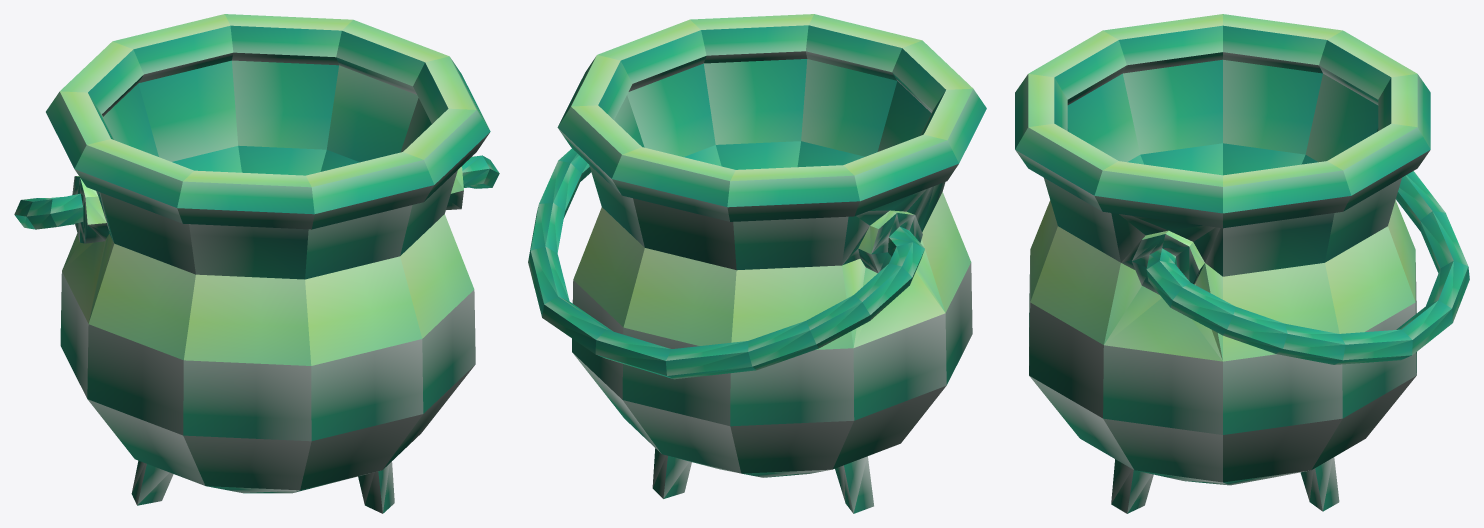
File: cauldron02.fbx
3 renders of one model, left to right at view 1: azimuth 30°, elevation 25°; view 2: azimuth 150°, elevation 25°; view 3: azimuth 270°, elevation 25°, orthographic. The views are drawn at different scales.
Visible parts, largest first — view 1: cauldron02; view 2: cauldron02; view 3: cauldron02.
Part boxes in pixels (bbox=[...]): cauldron02: bbox=[14, 14, 499, 513]; cauldron02: bbox=[528, 14, 986, 513]; cauldron02: bbox=[1015, 14, 1469, 513].
Size of the model in its own units: 166 by 147 by 161.
